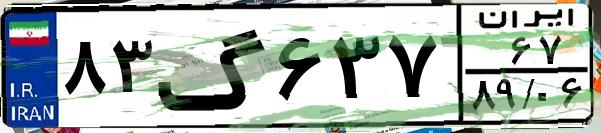0: (535, 70, 560, 125)
3: (330, 28, 385, 110), (110, 28, 156, 98)
6: (270, 28, 330, 110), (560, 70, 590, 125), (508, 27, 537, 80)
7: (385, 28, 445, 110), (537, 27, 568, 80)
8: (57, 26, 110, 100), (470, 70, 495, 125)
9: (495, 70, 520, 125)
گ: (156, 12, 270, 120)
